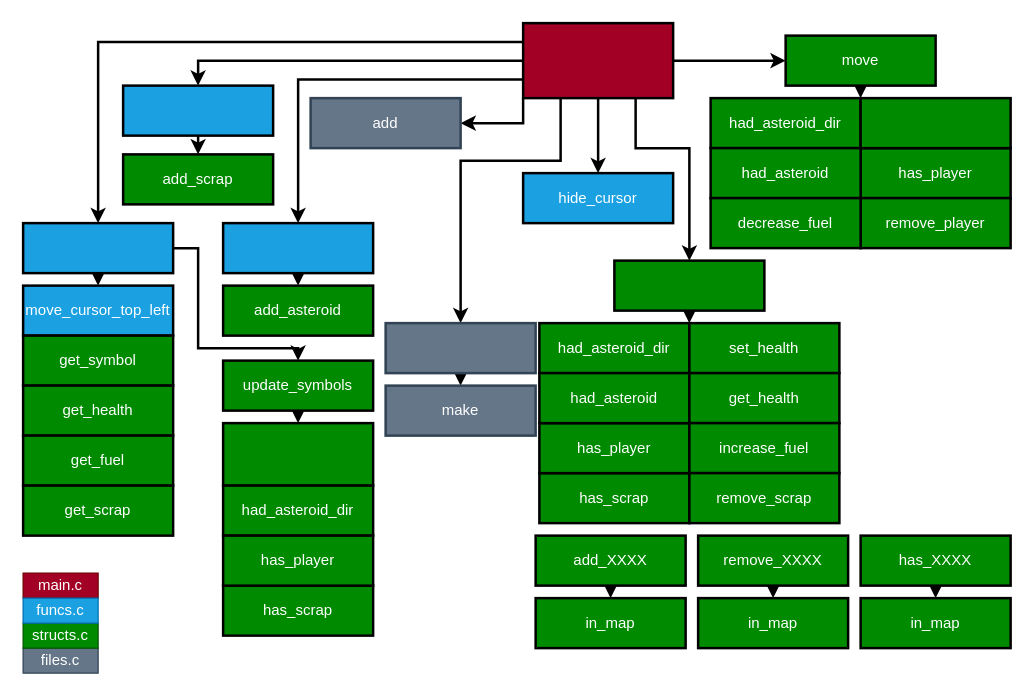
This 1033x695 diagram has some shape labels left out. The shapes that lost their labels are listed below. From the top down, each one's box as (x1, y1, x2, y2) in pixels, then its label:
(521, 21, 674, 99): main
(121, 84, 274, 136): create_map
(859, 96, 1011, 149): add_player
(21, 221, 174, 274): display_map
(221, 221, 374, 274): spawn_asteroid
(612, 259, 765, 311): check_collision
(384, 321, 536, 374): parse
(221, 421, 374, 486): show_overlap
